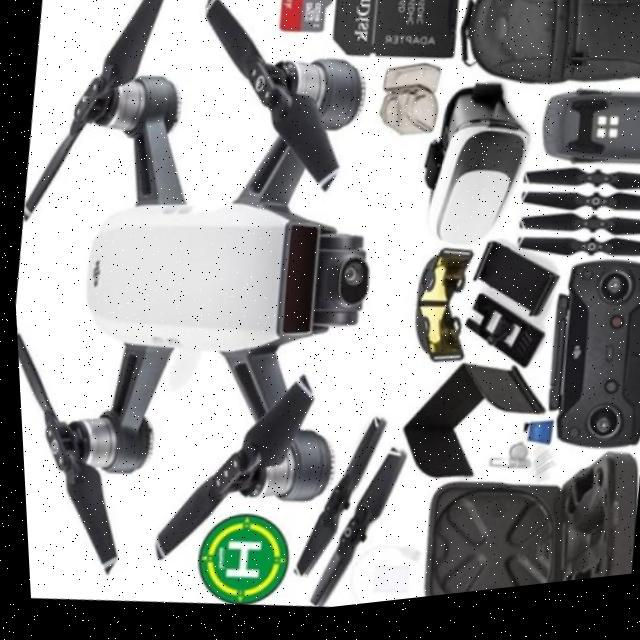drones: (0, 0, 438, 595)
